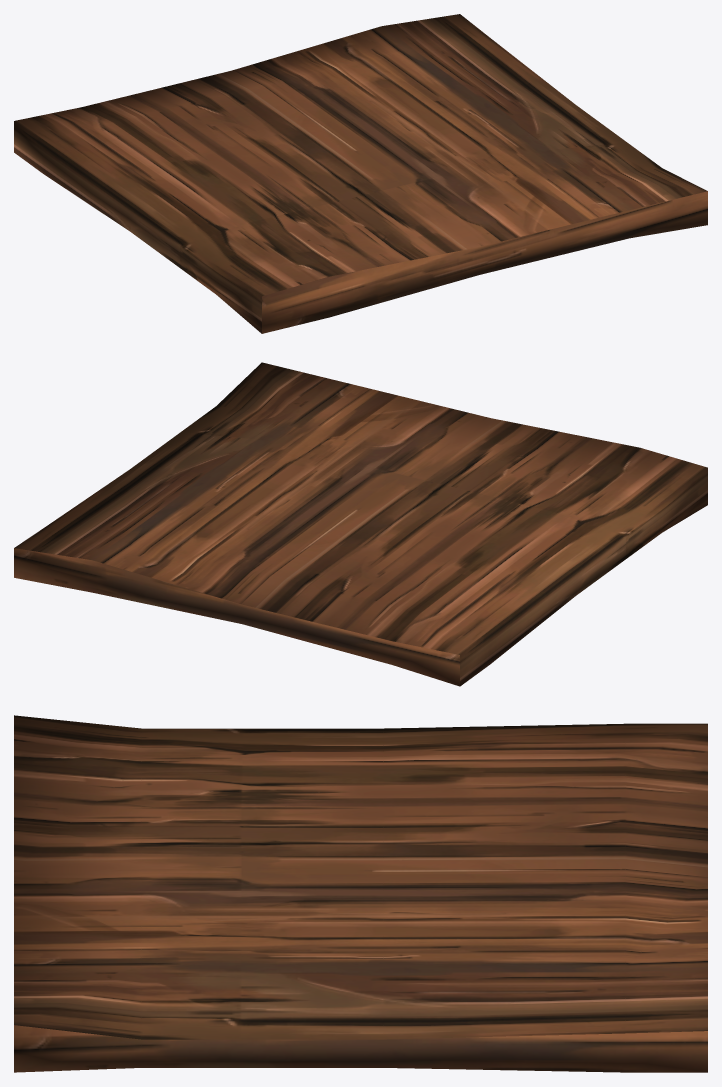
File: Woodplank.fbx
3 renders of one model, top to bottom at view 1: azimuth 30°, elevation 25°; view 2: azimuth 150°, elevation 25°; view 3: azimuth 270°, elevation 25°, orthographic. The views are drawn at different scales.
Visible parts, largest first — view 1: Cube.001; view 2: Cube.001; view 3: Cube.001.
Part boxes in pixels (bbox=[...]): Cube.001: bbox=[14, 14, 707, 333]; Cube.001: bbox=[14, 362, 707, 686]; Cube.001: bbox=[14, 715, 707, 1072].
Bounding box in the file's own units: 134 × 11.75 × 129.
